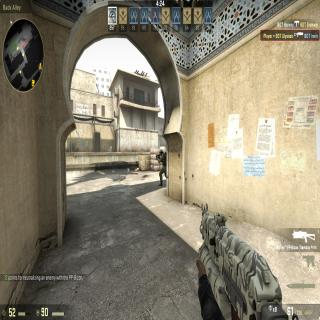CT-Body: (157, 149, 167, 186)
CT-Head: (159, 148, 163, 156)
